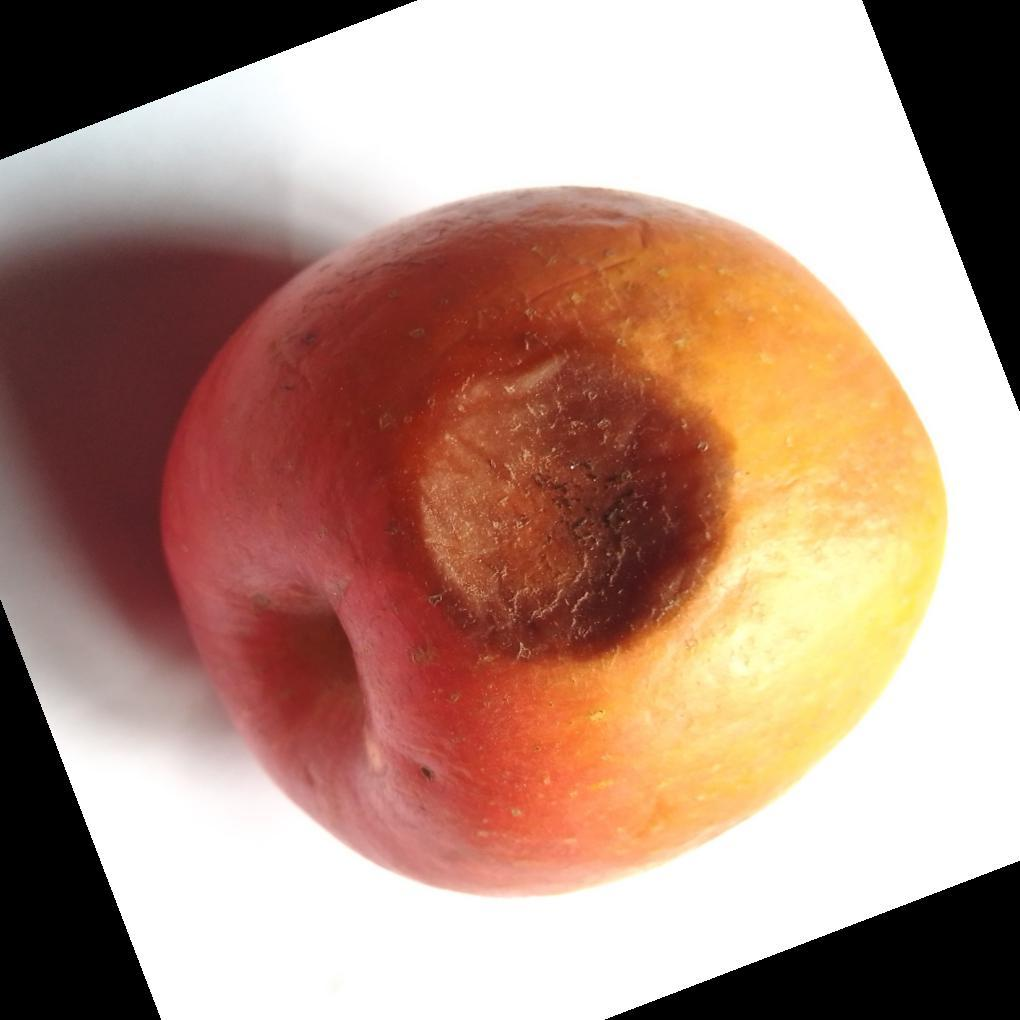FreshOrange: (158, 185, 950, 901)
